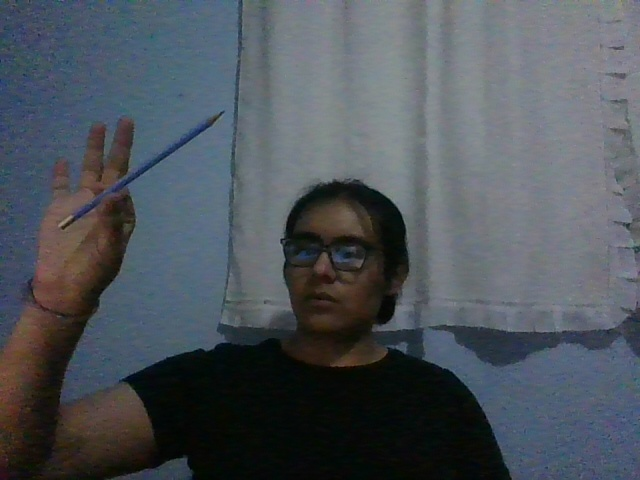lapiz: (58, 109, 227, 230)
